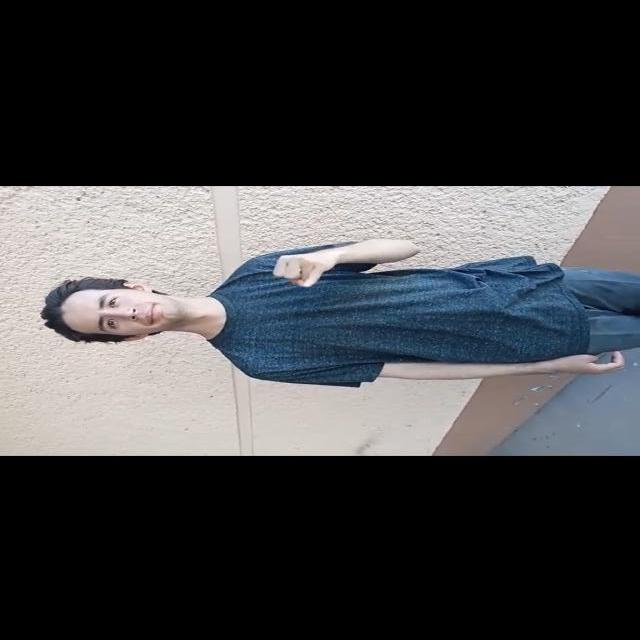J: (260, 248, 362, 296)
